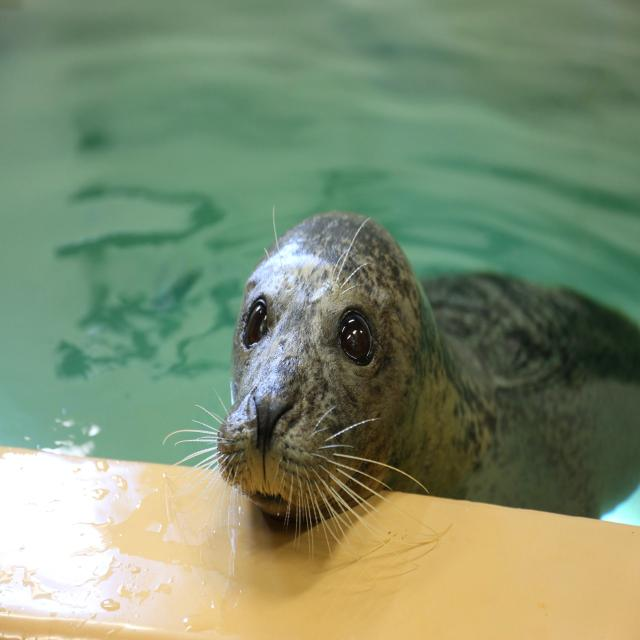seal: (215, 212, 640, 526)
